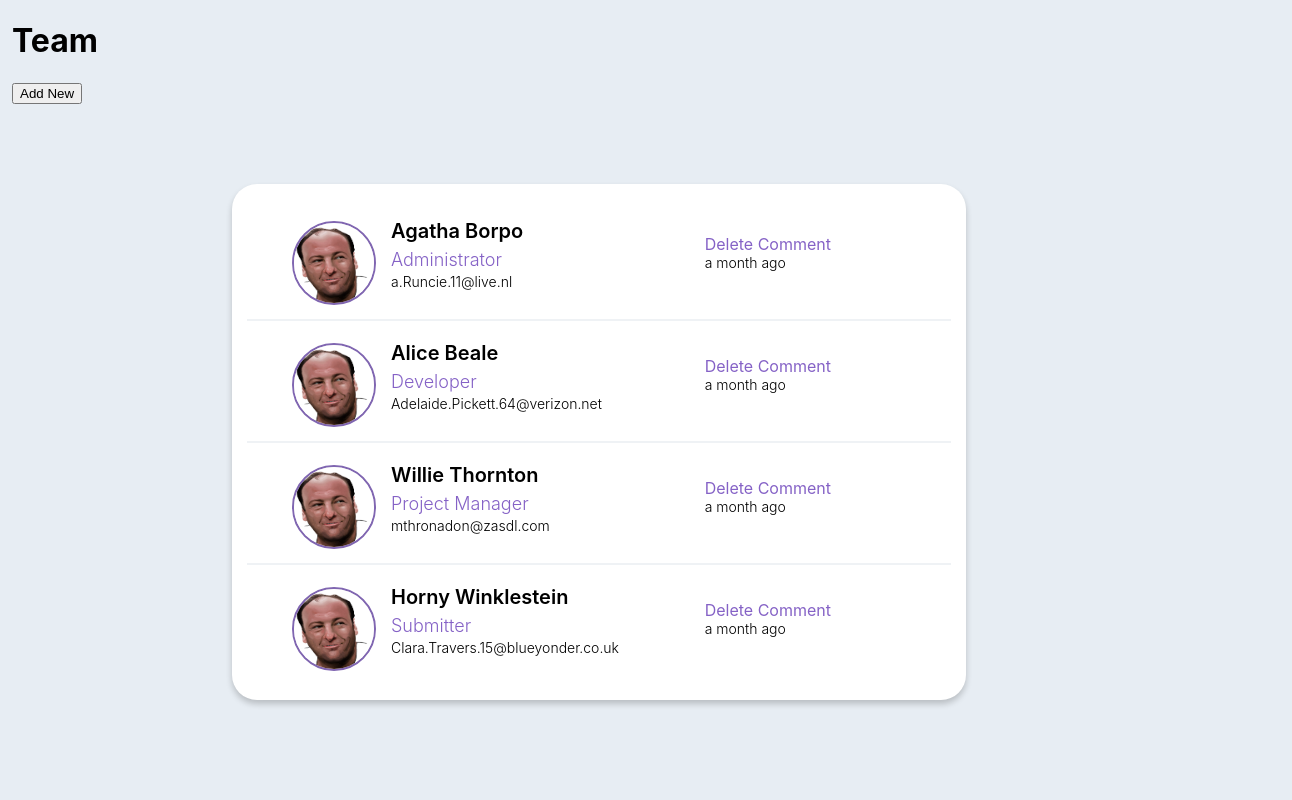
Test: has an 'add new' button that opens a member creation modal
# add button works
Click the button "Add New": (47, 93) [12,83,82,104]
(page scrolled)
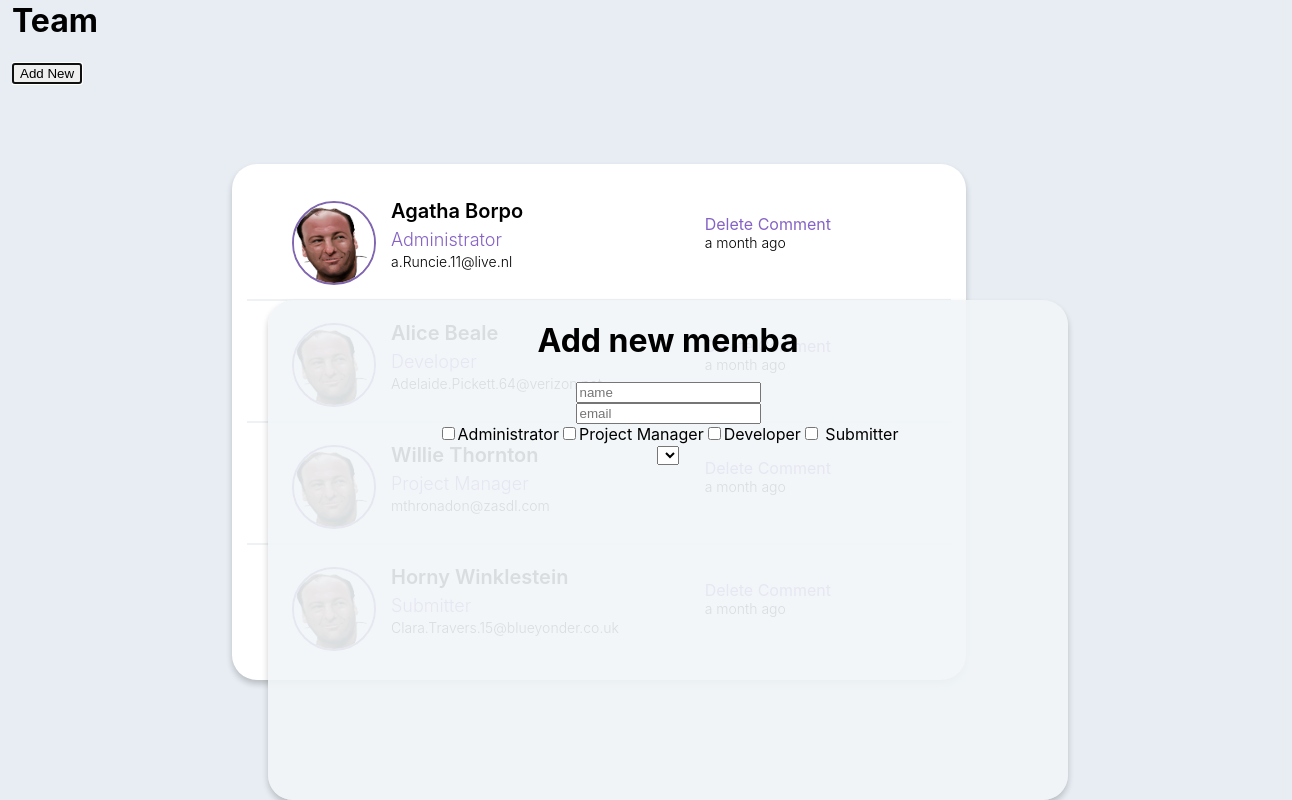
expect the element with test id "new-modal" is shown: met, box [268,300,1068,799]
